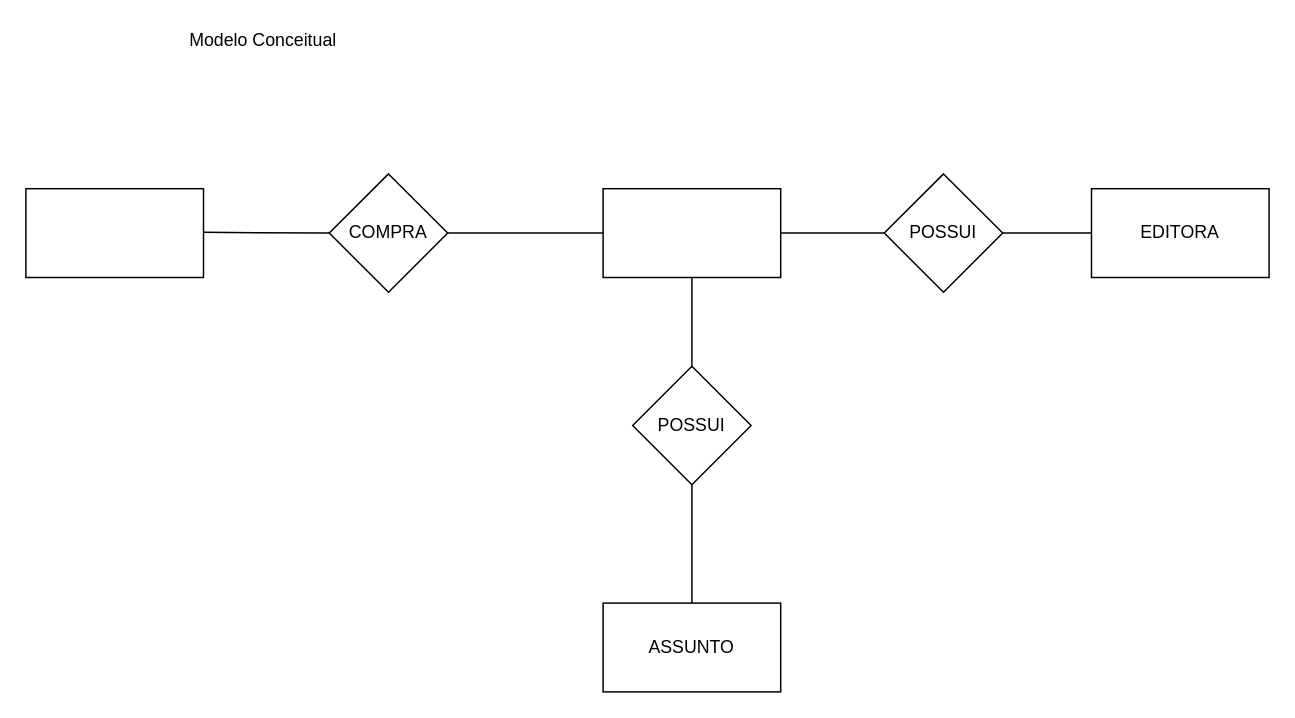
This 1295x718 diagram has some shape labels left out. The shapes that lost their labels are listed below. From the top down, each one's centre as x and y in pixels, then its label:
At (114,232): "CLIENTE".
At (691,232): "LIVRO".
